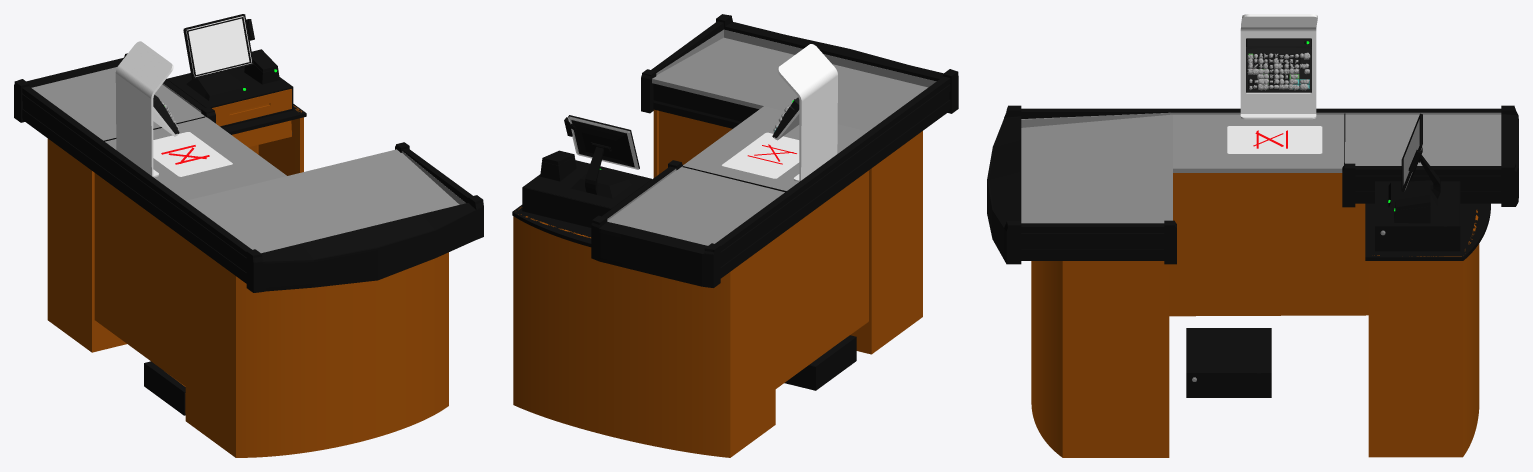
File: Check Out Counter.glb
The picture shows the model from 3 angles, left to right: view 1: azimuth 30°, elevation 25°; view 2: azimuth 150°, elevation 25°; view 3: azimuth 270°, elevation 25°; orthographic projection. The views are drawn at different scales.
Parts seen in each view (by area): view 1: estructura; view 2: estructura; view 3: estructura.
Boxes of the visible parts, x1,y1,x2,y2 form: estructura: (14,14,483,457); estructura: (512,14,958,457); estructura: (987,14,1518,457).
Bounding box in the file's own units: 1.06 × 1.44 × 1.99.
